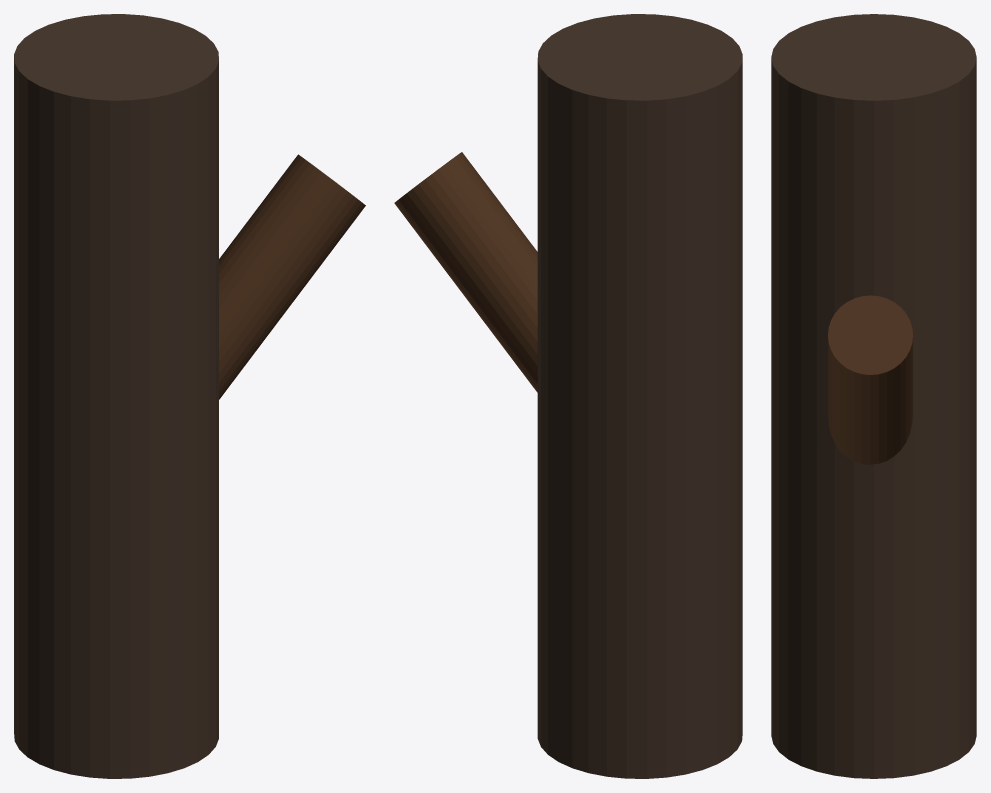
Rendered from branch.fbx.
The picture shows the model from 3 angles, left to right: view 1: azimuth 30°, elevation 25°; view 2: azimuth 150°, elevation 25°; view 3: azimuth 270°, elevation 25°; orthographic projection.
Visible parts, largest first — view 1: 円柱, 円柱.001; view 2: 円柱, 円柱.001; view 3: 円柱, 円柱.001.
Boxes of the visible parts, bbox=[...] form: 円柱: bbox=[14, 14, 218, 778]; 円柱.001: bbox=[219, 154, 365, 399]; 円柱: bbox=[537, 14, 742, 778]; 円柱.001: bbox=[394, 152, 537, 392]; 円柱: bbox=[771, 14, 976, 778]; 円柱.001: bbox=[828, 295, 912, 464].
Bounding box in the file's own units: 300 × 591 × 162.
